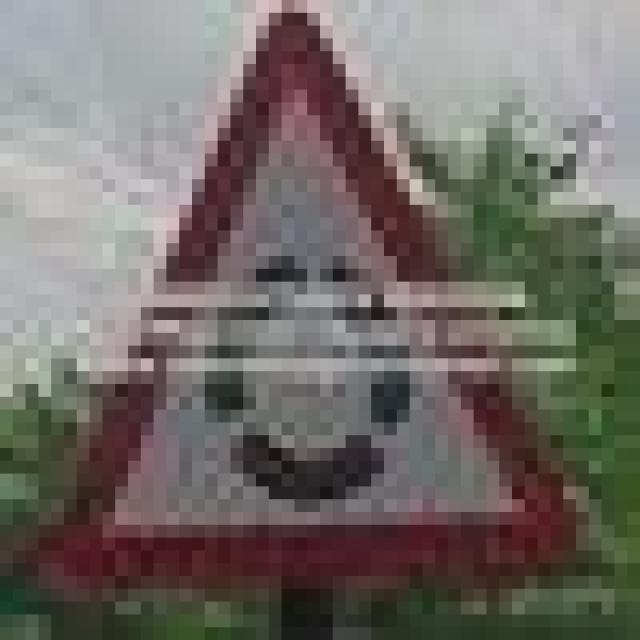roundabout: (42, 17, 602, 600)
